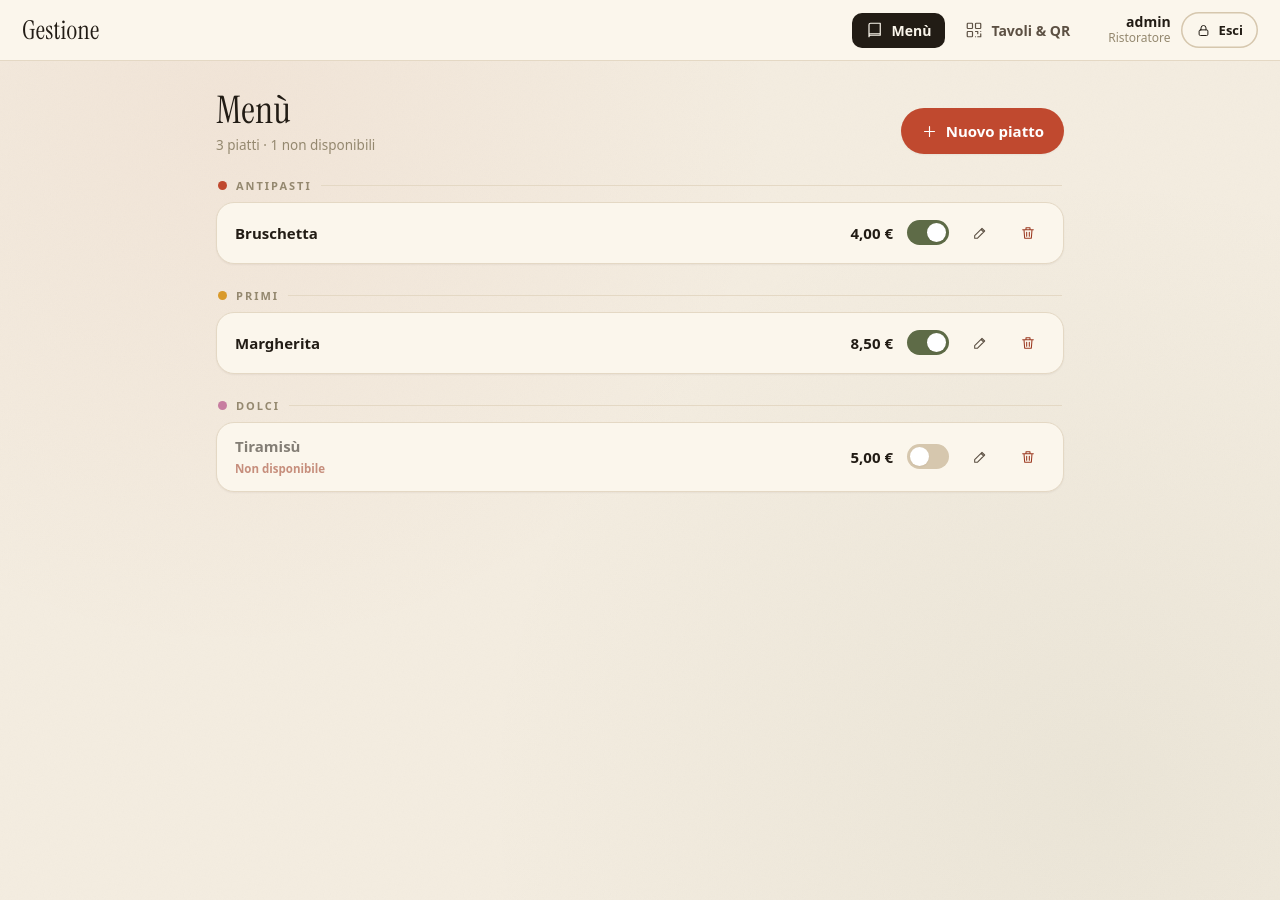
Scenario: menu › crea un piatto mandando il prezzo come stringa decimale
Click the button "Nuovo piatto" at (982, 131), box 901,108 -> 1064,154
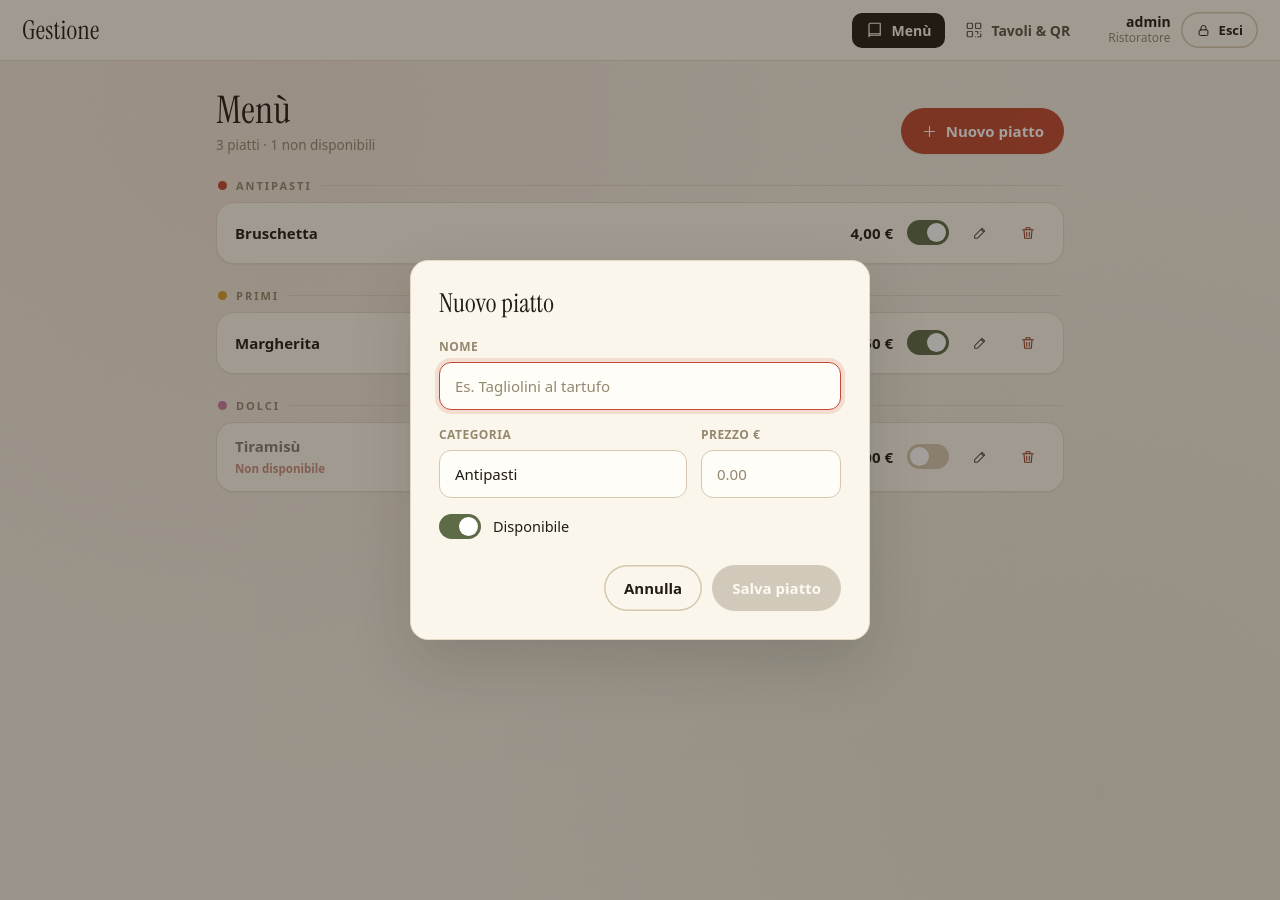
Type "  Tagliolini  " into the field labelled "Nome" at (640, 386), box 439,362 -> 841,410
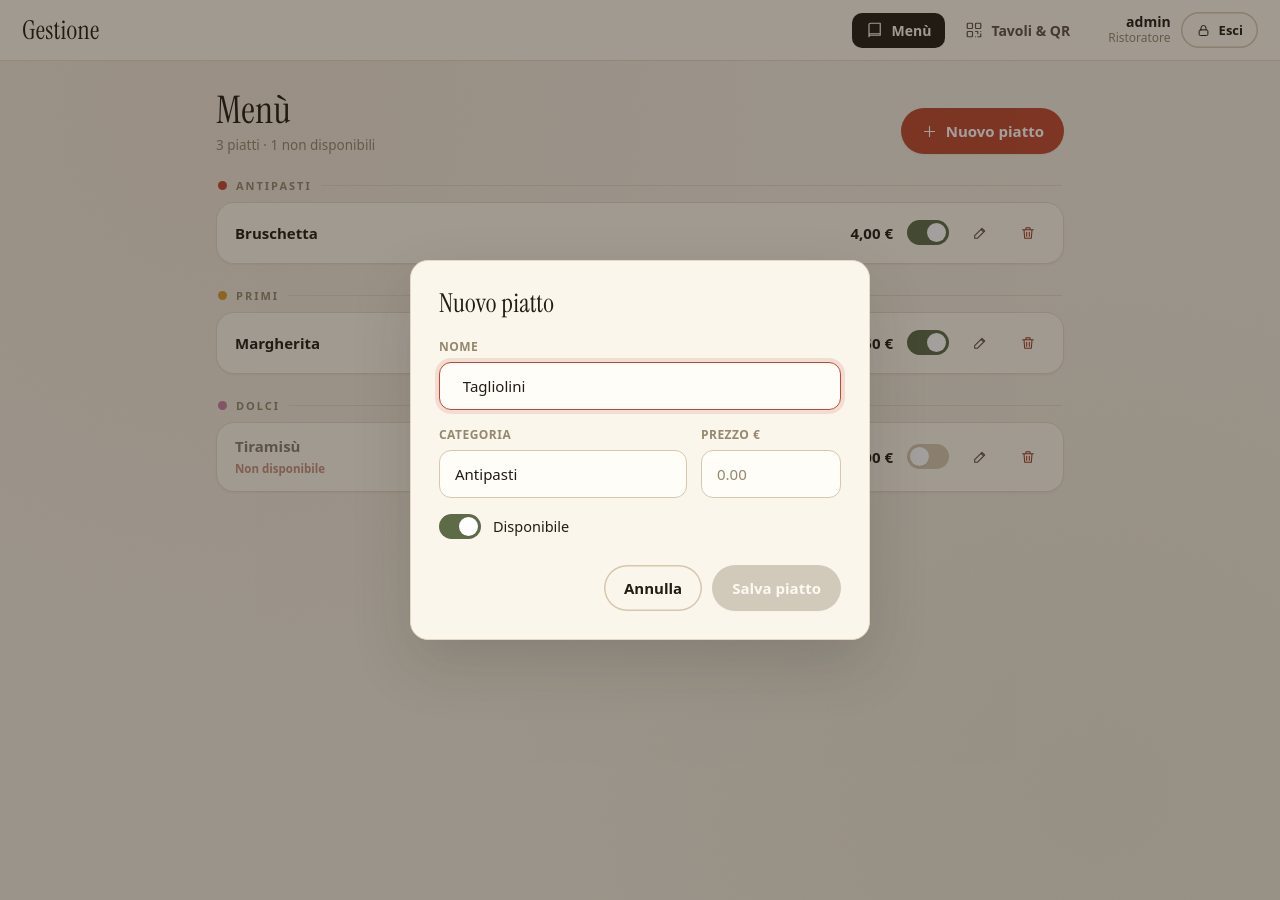
Replace the text in the field labelled "Categoria" with "Primi" at (563, 474), box 439,450 -> 687,498
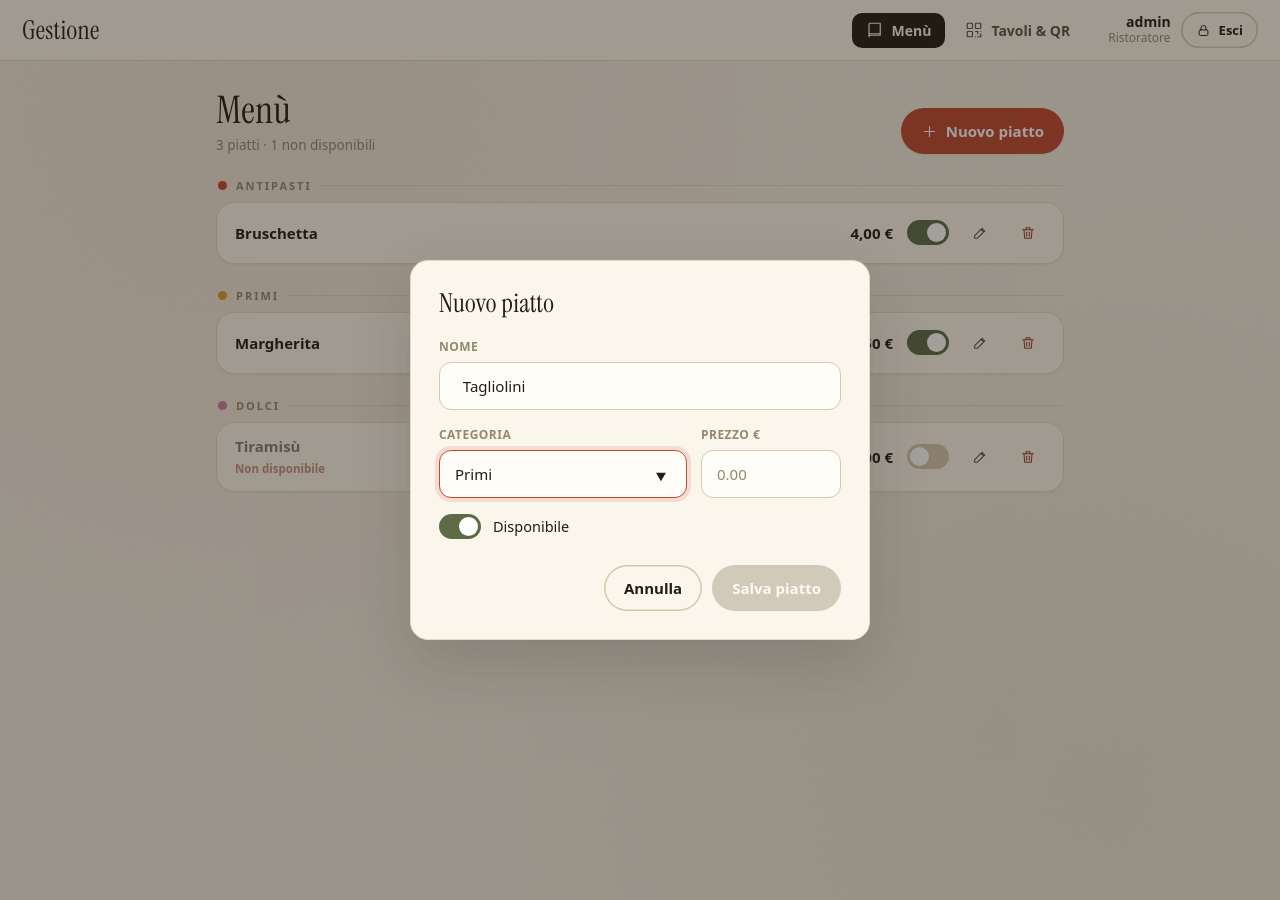
Type "12,5" into the field labelled "Prezzo €" at (771, 474), box 701,450 -> 841,498
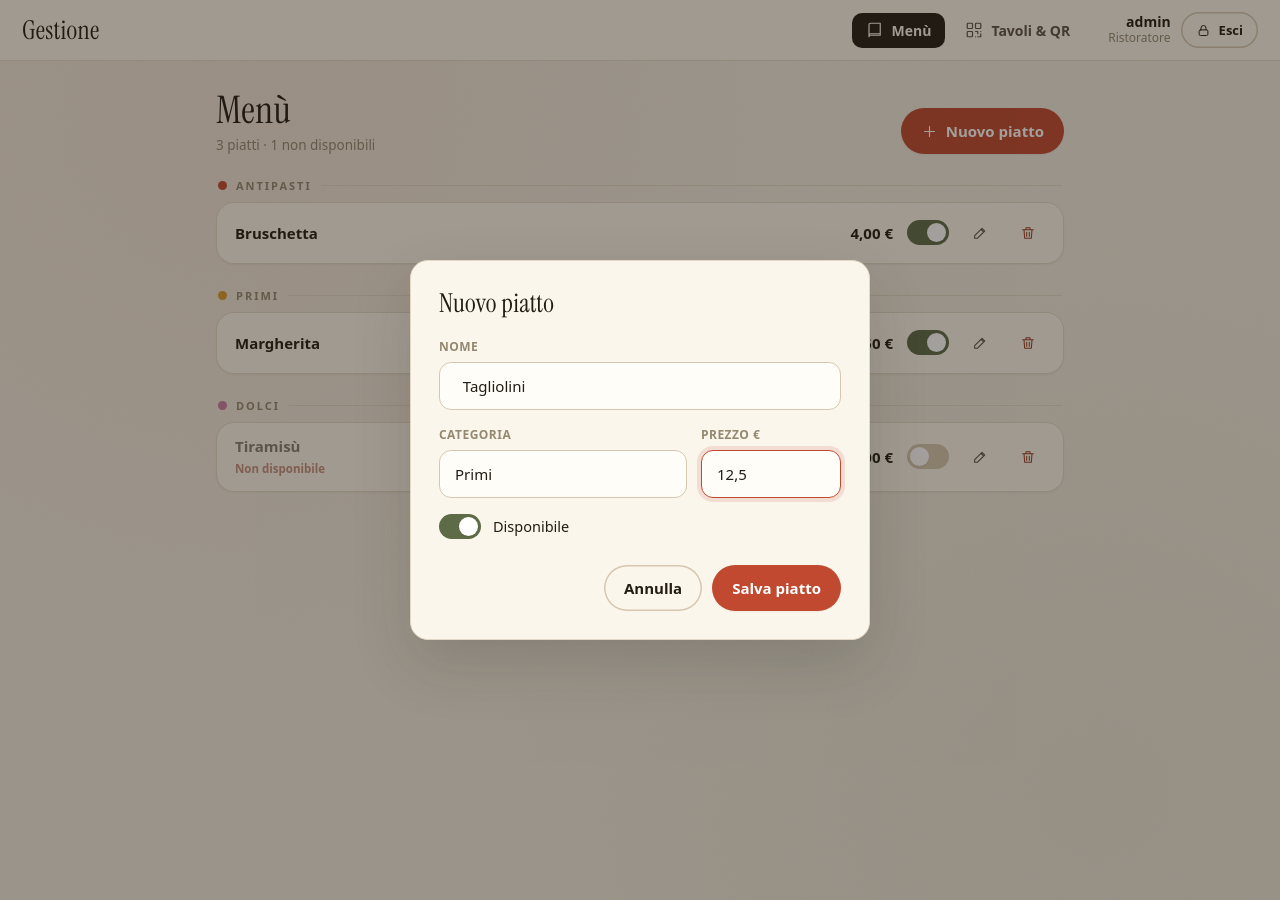
Click the button "Salva piatto" at (777, 588), box 712,564 -> 841,610
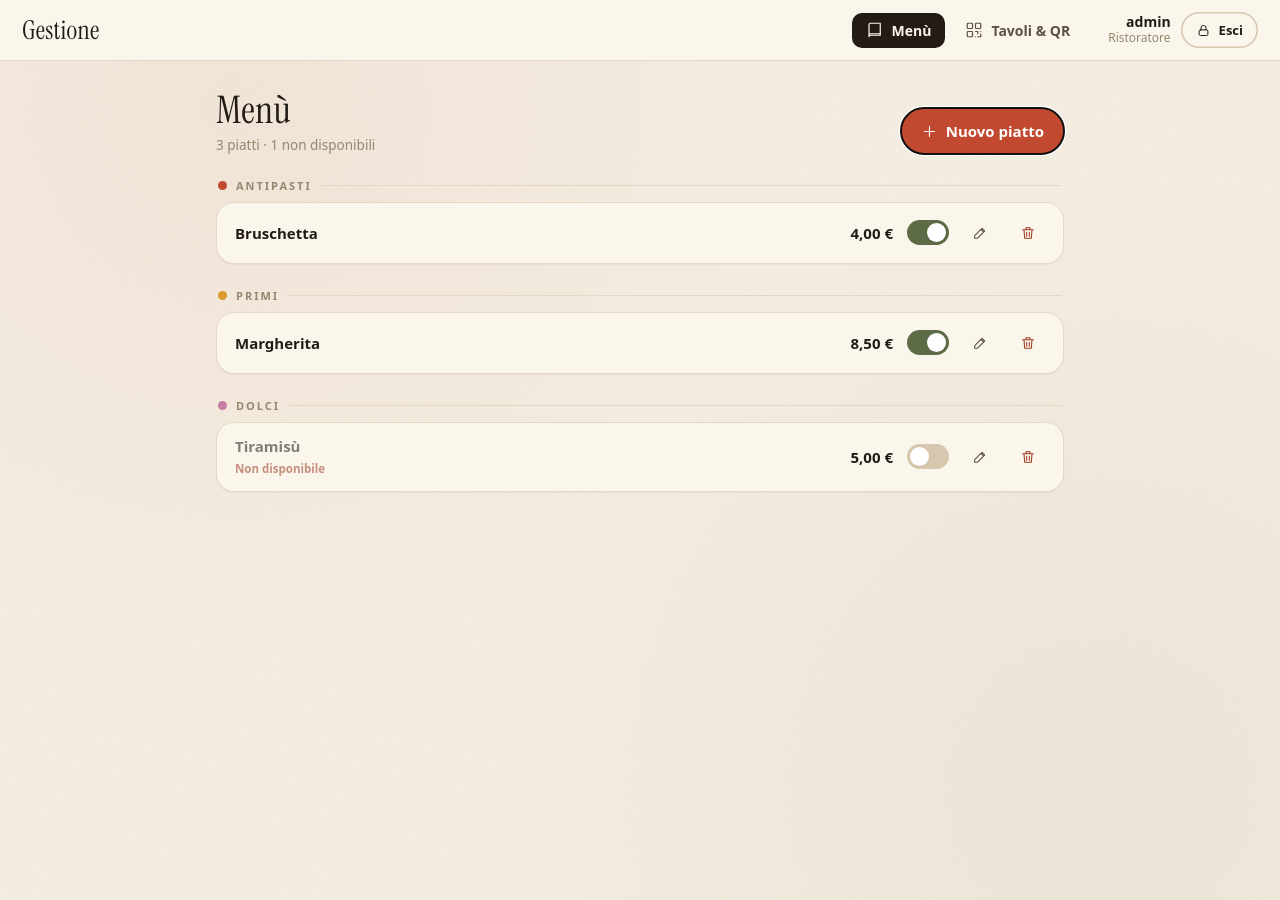
Now the dialog is gone
